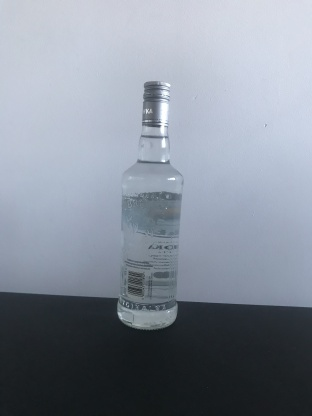nakretka: (140, 79, 171, 127)
